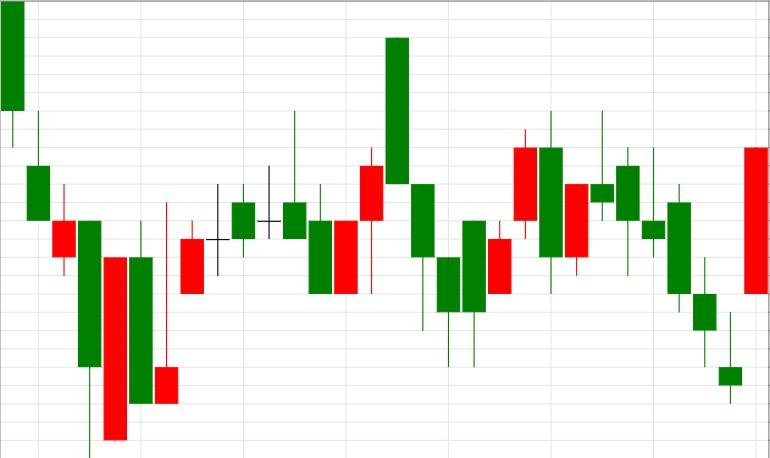morning_star_rise: (591, 111, 769, 402)
shooting_star_fall: (154, 110, 306, 403)
